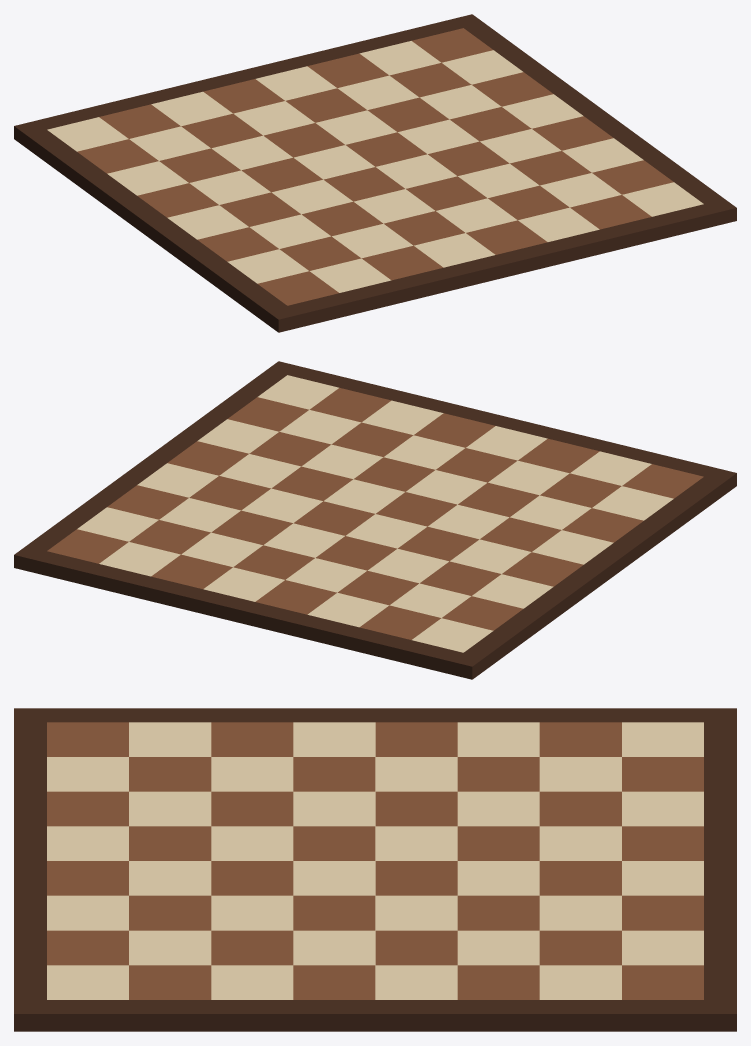
Rendered from board.glb.
3 views of the same model, one above another, from view 1: azimuth 30°, elevation 25°; view 2: azimuth 150°, elevation 25°; view 3: azimuth 270°, elevation 25° (orthographic). The views are drawn at different scales.
Parts seen in each view (by area): view 1: board; view 2: board; view 3: board.
Boxes of the visible parts, x1=… form: board: x1=14, y1=14, x2=736, y2=332; board: x1=14, y1=361, x2=736, y2=679; board: x1=14, y1=708, x2=736, y2=1031.
Size of the model in its own units: 0.44 by 0.012 by 0.44.
